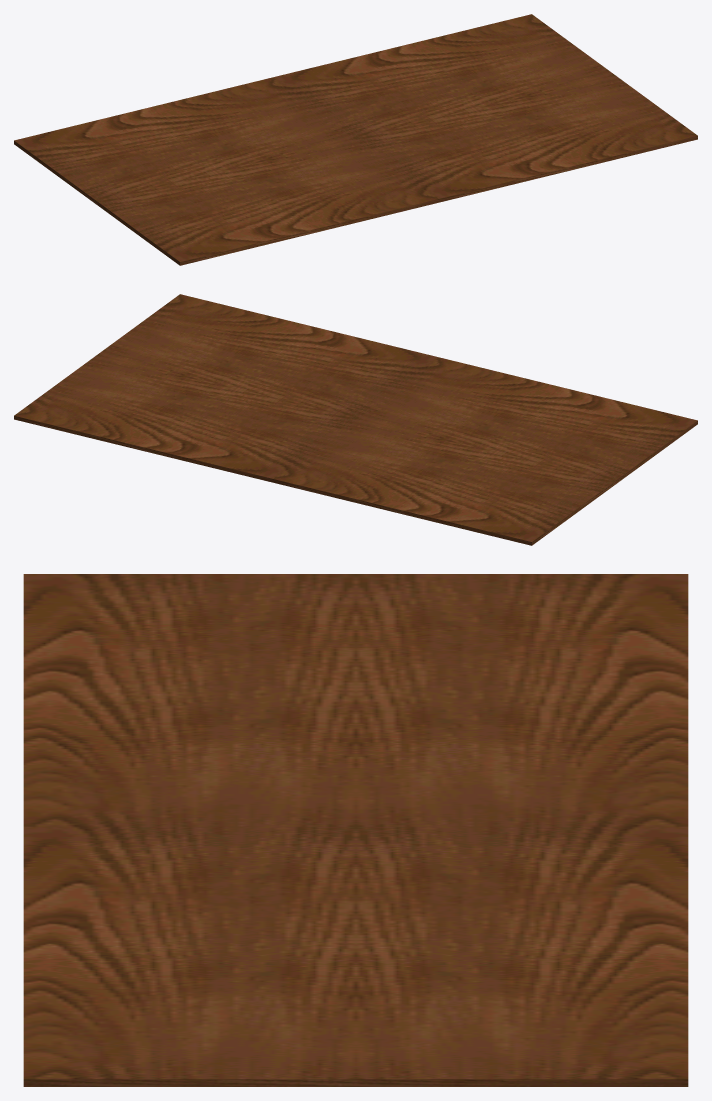
The picture shows the model from 3 angles, top to bottom: view 1: azimuth 30°, elevation 25°; view 2: azimuth 150°, elevation 25°; view 3: azimuth 270°, elevation 25°; orthographic projection. The views are drawn at different scales.
Parts seen in each view (by area): view 1: Joint_0_Object_0; view 2: Joint_0_Object_0; view 3: Joint_0_Object_0.
Part boxes in pixels (<box>): Joint_0_Object_0: <box>14,14,697,265</box>; Joint_0_Object_0: <box>14,294,697,545</box>; Joint_0_Object_0: <box>23,574,688,1086</box>.
Bounding box in the file's own units: 3600 × 25 × 2000.
Materials: 1 (1 with a texture image).
